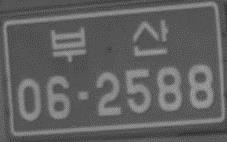-: (73, 88, 93, 102)
0: (16, 77, 43, 121)
2: (94, 70, 123, 117)
5: (123, 68, 153, 114)
6: (45, 74, 72, 120)
8: (155, 64, 183, 112), (187, 63, 215, 110)
부산_D: (49, 17, 170, 65)
